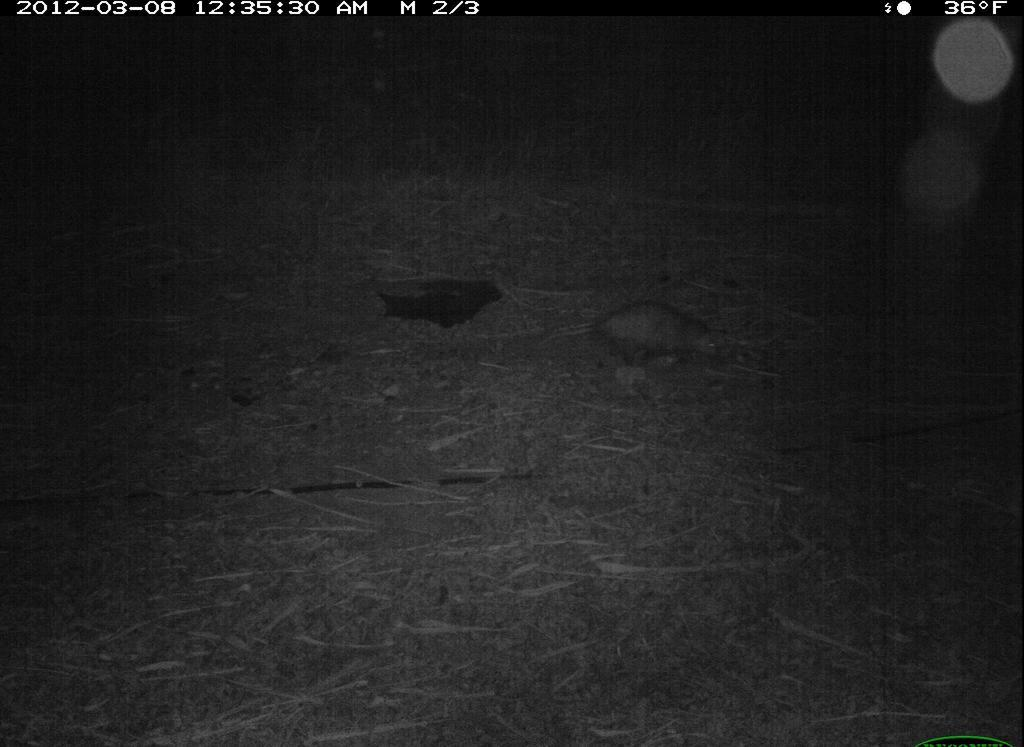opossum: (528, 294, 734, 377)
